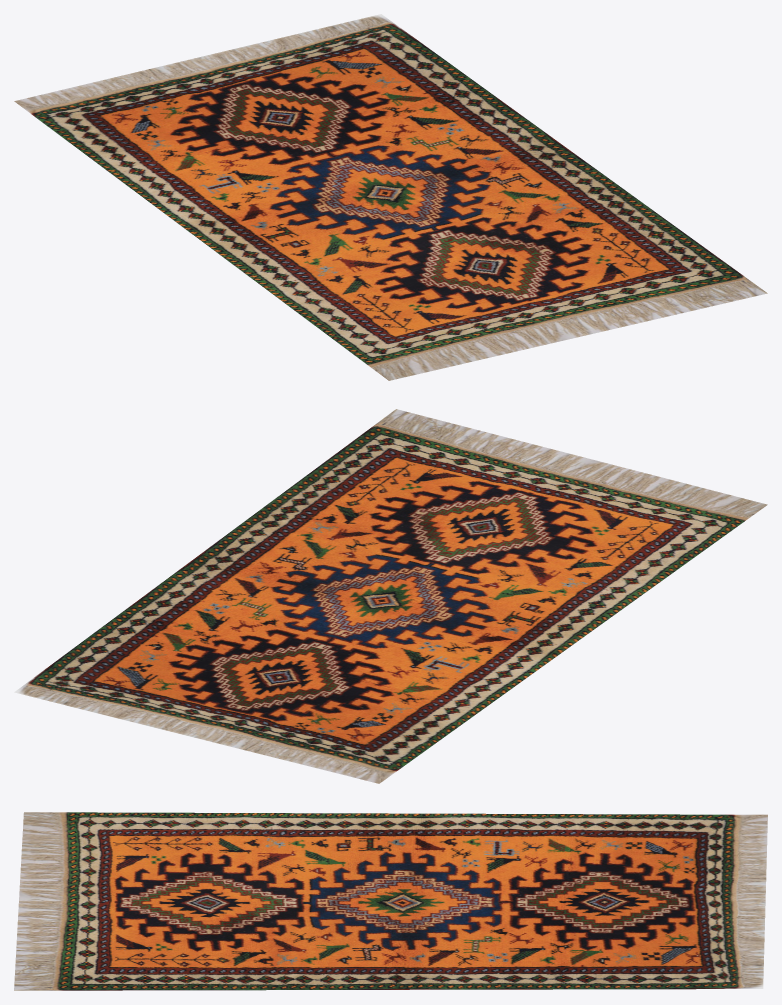
The model's file is karpet.glb.
3 renders of one model, top to bottom at view 1: azimuth 30°, elevation 25°; view 2: azimuth 150°, elevation 25°; view 3: azimuth 270°, elevation 25°, orthographic. The views are drawn at different scales.
Visible parts, largest first — view 1: Object_2; view 2: Object_2; view 3: Object_2.
Boxes of the visible parts, left/top/right/bottom form: Object_2: left=14, top=14, right=767, bottom=380; Object_2: left=14, top=409, right=767, bottom=783; Object_2: left=14, top=812, right=767, bottom=990.
Bounding box in the file's own units: 205 × 8.13e-14 × 366.
Materials: 1 (1 with a texture image).
